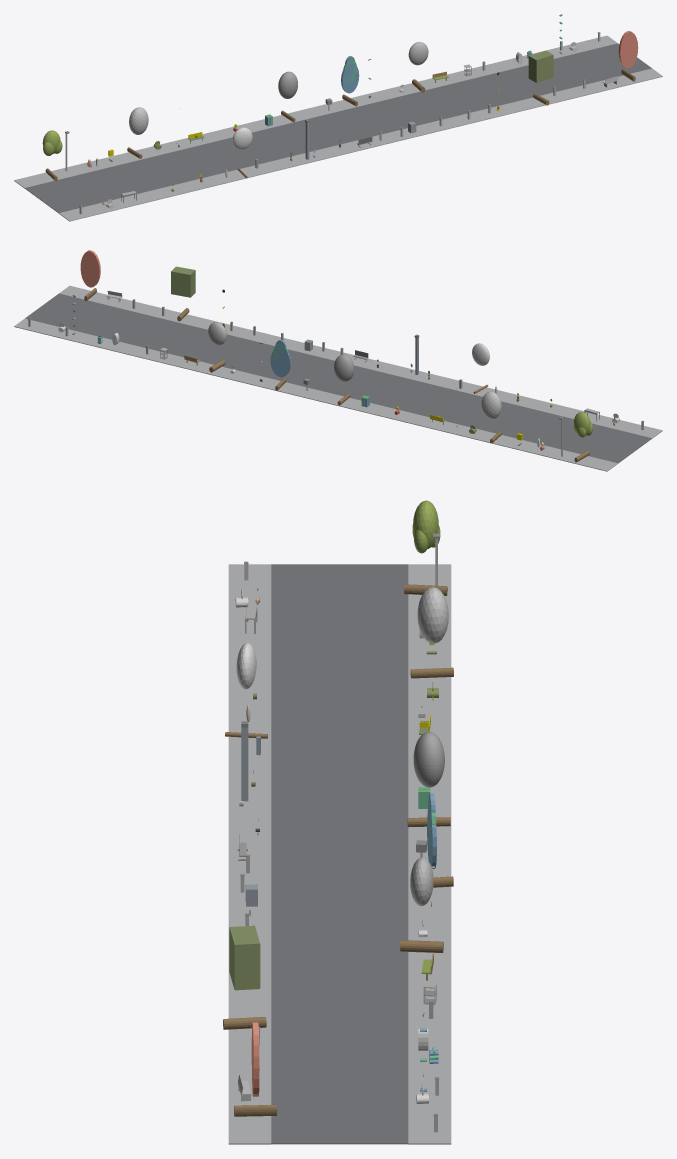
The picture shows the model from 3 angles, top to bottom: view 1: azimuth 30°, elevation 25°; view 2: azimuth 150°, elevation 25°; view 3: azimuth 270°, elevation 25°; orthographic projection. The views are drawn at different scales.
Visible parts, largest first — view 1: road_slab, sidewalk_left, sidewalk_right, inst_0024, inst_0025, inst_0022, inst_0019, inst_0021, inst_0018, inst_0023, inst_0020; view 2: road_slab, sidewalk_right, sidewalk_left, inst_0024, inst_0025, inst_0022, inst_0019, inst_0021, inst_0018, inst_0023, inst_0020; view 3: road_slab, sidewalk_left, sidewalk_right, inst_0024, inst_0019, inst_0021, inst_0023, inst_0018, inst_0025, inst_0020.
Part boxes in pixels (<box>): road_slab: <box>24,43,651,213</box>; sidewalk_left: <box>59,68,662,221</box>; sidewalk_right: <box>14,35,617,188</box>; inst_0024: <box>528,50,553,105</box>; inst_0025: <box>618,31,638,81</box>; inst_0022: <box>341,56,359,106</box>; inst_0019: <box>127,107,148,158</box>; inst_0021: <box>278,71,297,122</box>; inst_0018: <box>42,130,62,181</box>; inst_0023: <box>408,41,428,92</box>; inst_0020: <box>232,127,252,178</box>; road_slab: <box>25,293,651,463</box>; sidewalk_right: <box>14,318,617,471</box>; sidewalk_left: <box>59,285,662,438</box>; inst_0024: <box>171,266,195,321</box>; inst_0025: <box>80,250,100,301</box>; inst_0022: <box>270,340,290,390</box>; inst_0019: <box>481,391,501,443</box>; inst_0021: <box>334,354,354,405</box>; inst_0018: <box>573,412,592,462</box>; inst_0023: <box>208,322,226,372</box>; inst_0020: <box>472,343,489,393</box>; road_slab: <box>271,564,408,1144</box>; sidewalk_left: <box>228,564,271,1144</box>; sidewalk_right: <box>408,564,451,1144</box>; inst_0024: <box>223,925,266,1029</box>; inst_0019: <box>410,587,453,678</box>; inst_0021: <box>407,732,450,827</box>; inst_0023: <box>400,857,443,952</box>; inst_0018: <box>404,500,447,595</box>; inst_0025: <box>234,1022,277,1116</box>; inst_0020: <box>225,642,267,738</box>.
Size of the model in its own units: 80 by 6.08 by 13.48.
